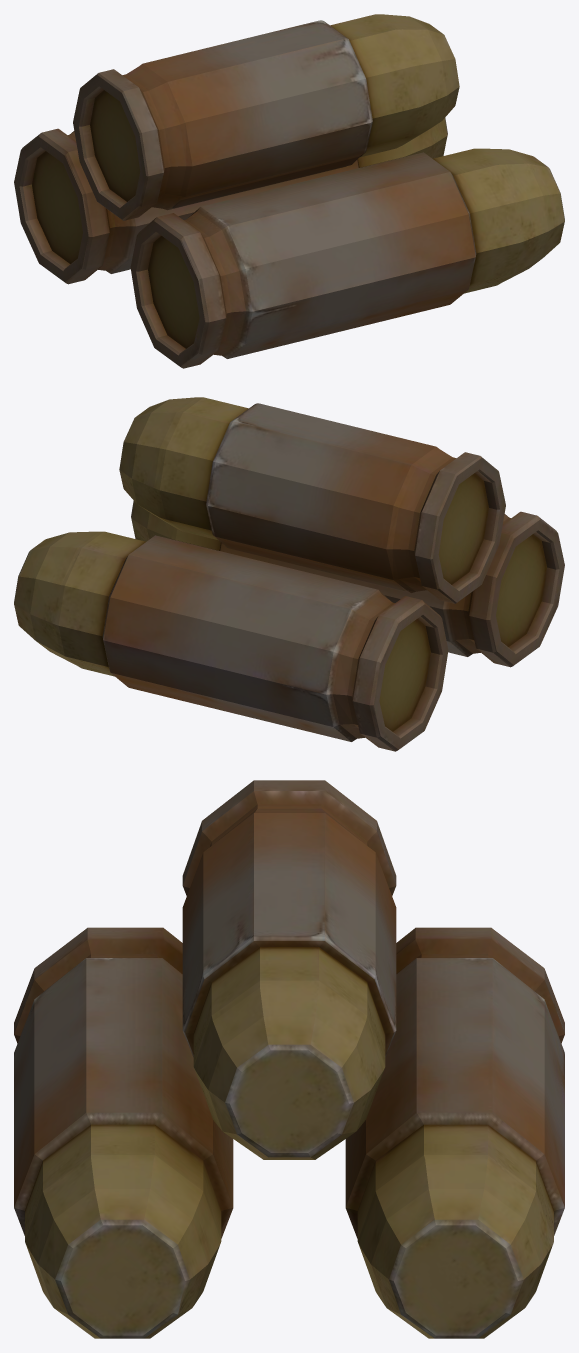
File: bullet.glb
3 renders of one model, top to bottom at view 1: azimuth 30°, elevation 25°; view 2: azimuth 150°, elevation 25°; view 3: azimuth 270°, elevation 25°, orthographic. The views are drawn at different scales.
Parts seen in each view (by area): view 1: tripo_node_4703d6de-8f5b-4586-a4bf-bc939b22b6cd; view 2: tripo_node_4703d6de-8f5b-4586-a4bf-bc939b22b6cd; view 3: tripo_node_4703d6de-8f5b-4586-a4bf-bc939b22b6cd.
Boxes of the visible parts, x1,y1,x2,y2 form: tripo_node_4703d6de-8f5b-4586-a4bf-bc939b22b6cd: (14,14,564,368); tripo_node_4703d6de-8f5b-4586-a4bf-bc939b22b6cd: (14,397,564,751); tripo_node_4703d6de-8f5b-4586-a4bf-bc939b22b6cd: (14,780,564,1338).
Size of the model in its own units: 0.9955 by 0.5981 by 0.8903.
Materials: 1 (1 with a texture image).
